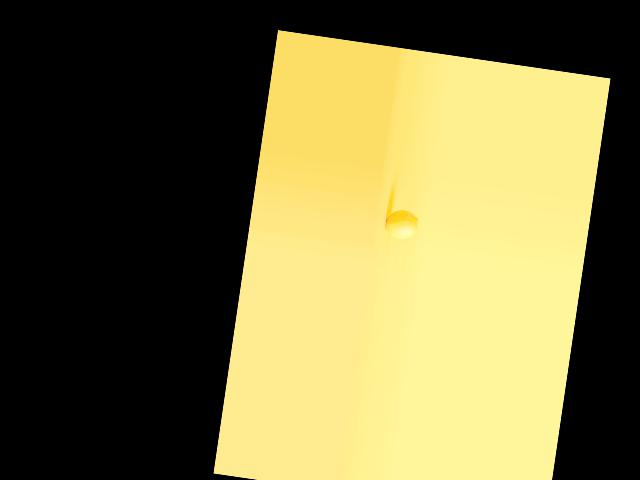lemon: (382, 205, 423, 249)
